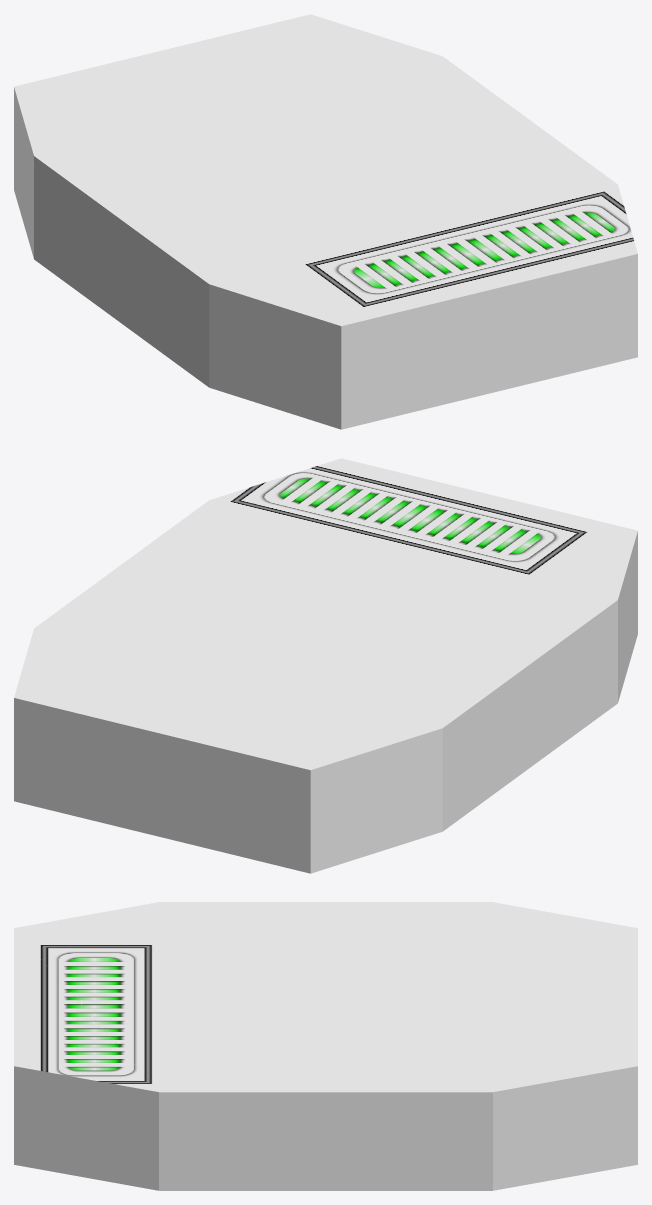
The model's file is custom_belt.obj.
The picture shows the model from 3 angles, top to bottom: view 1: azimuth 30°, elevation 25°; view 2: azimuth 150°, elevation 25°; view 3: azimuth 270°, elevation 25°; orthographic projection. The views are drawn at different scales.
Visible parts, largest first — view 1: RIGHT_Cube.011; view 2: RIGHT_Cube.011; view 3: RIGHT_Cube.011.
Boxes of the visible parts, x1,y1,x2,y2 form: RIGHT_Cube.011: (14,14,637,429); RIGHT_Cube.011: (14,458,637,873); RIGHT_Cube.011: (14,902,637,1190).
Bounding box in the file's own units: 6.2 × 1.5 × 8.6.
